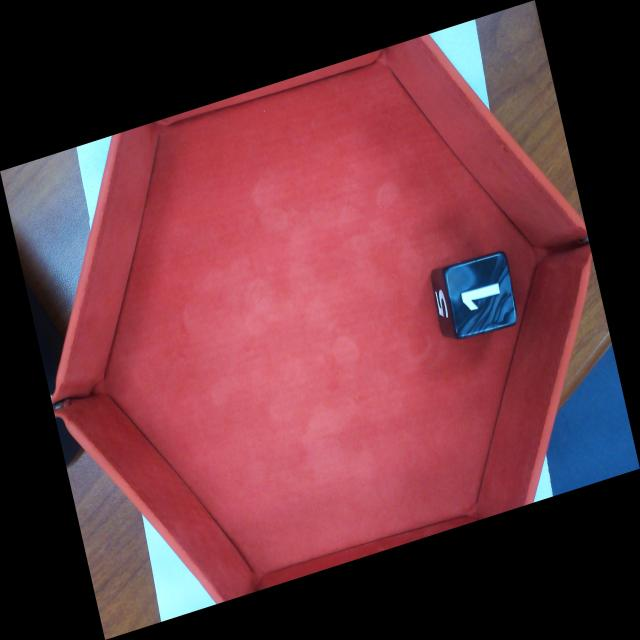dice: (441, 250, 521, 342)
